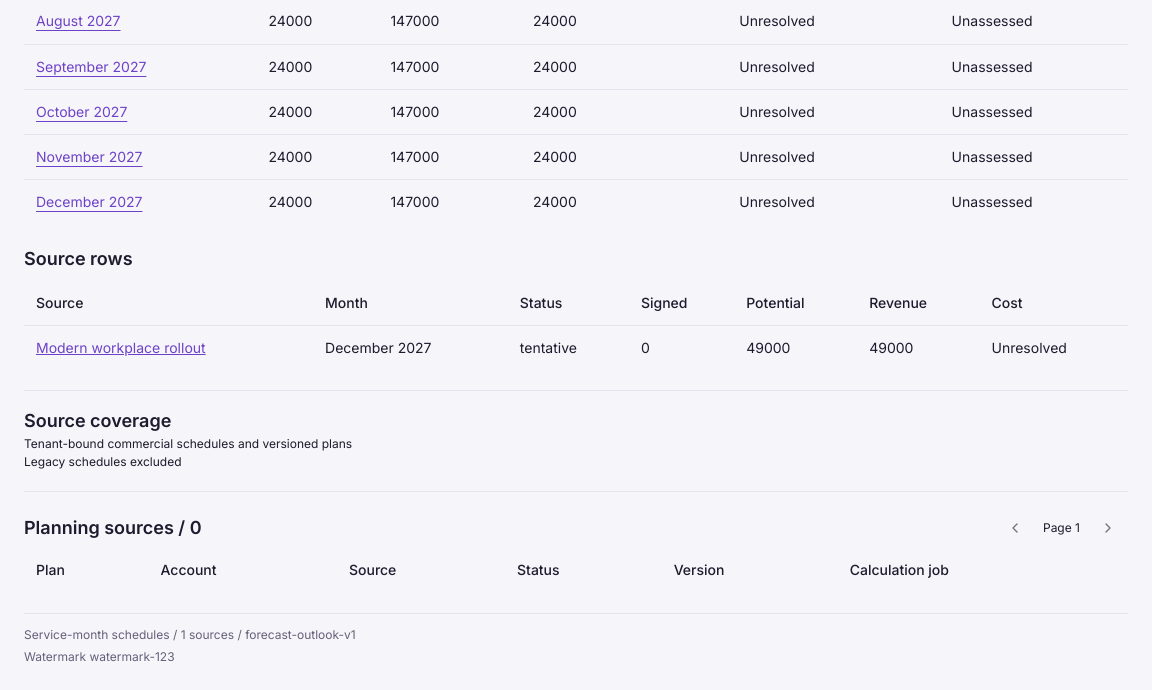
Scenario: Forecast › drills into authoritative named source, calculation identity and evidence
(page scrolled)
Click the button "Modern workplace rollout" at point(121, 348), box [36,338,206,358]
(page scrolled)
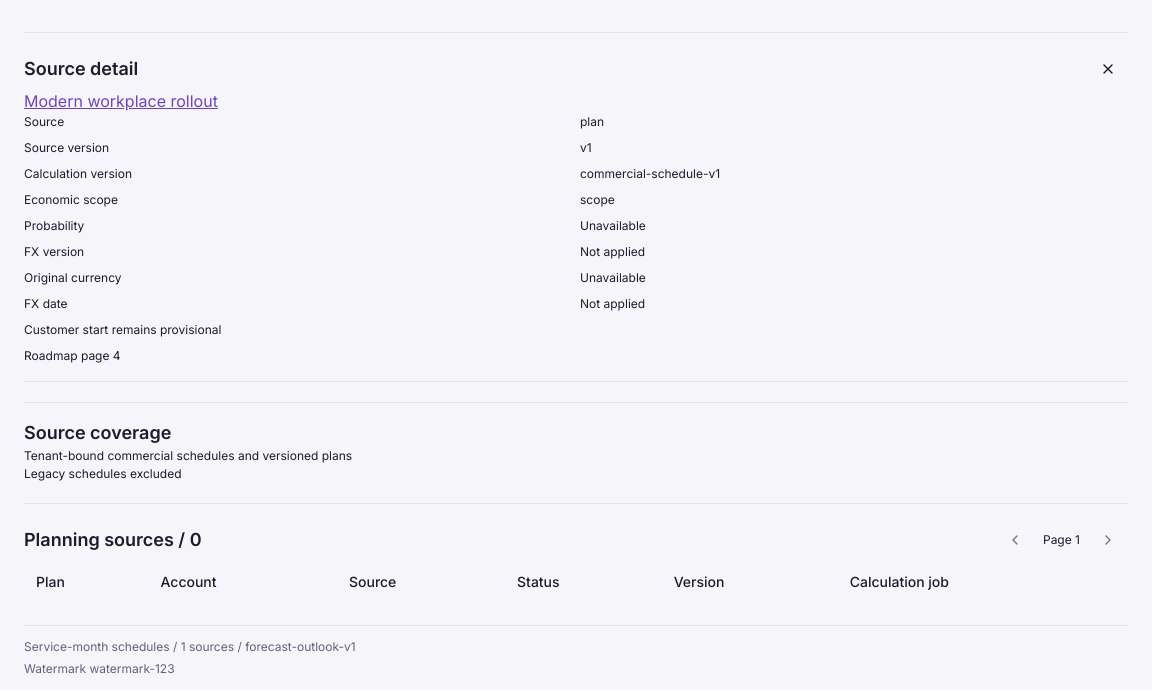
Check: the element "Source detail" shows "commercial-schedule-v1", box [580,166,720,181]
Check: the text "Roadmap page 4" is shown, box [24,348,121,363]
Check: the text "Customer start remains provisional" is shown, box [24,322,221,337]
